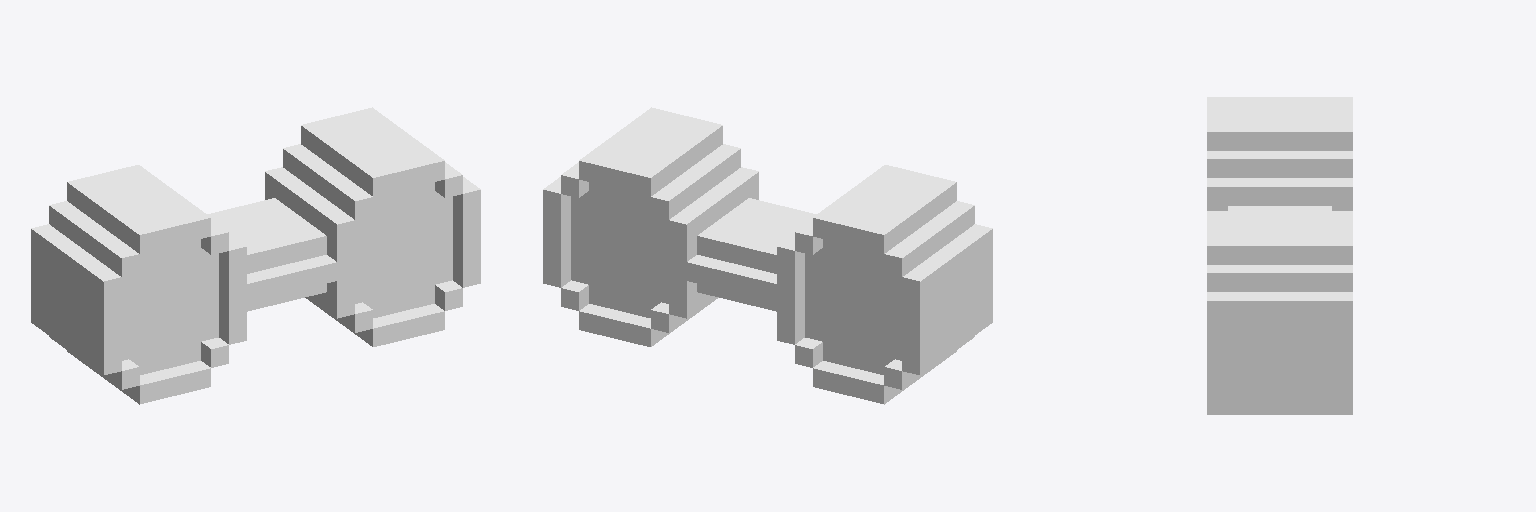
The model's file is enemy03.obj.
The picture shows the model from 3 angles: view 1: azimuth 30°, elevation 25°; view 2: azimuth 150°, elevation 25°; view 3: azimuth 270°, elevation 25°; orthographic projection.
Size of the model in its own units: 21 by 9 by 7.